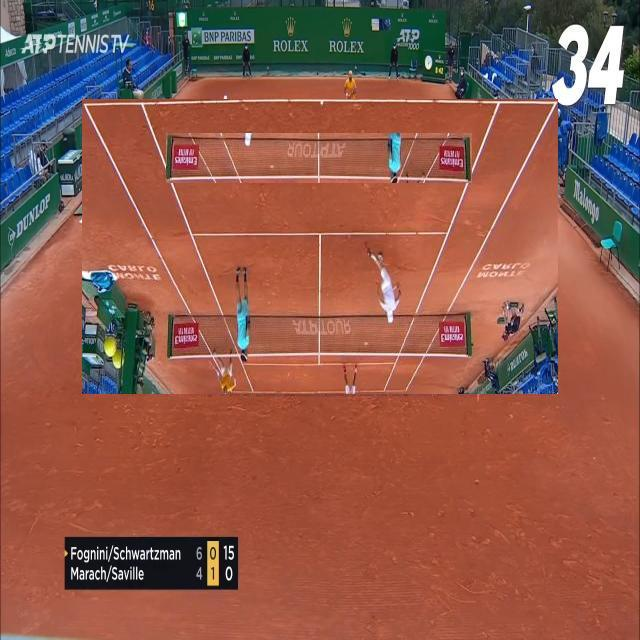court: (82, 100, 558, 396)
net: (166, 134, 472, 183)
player: (366, 170, 402, 248), (236, 132, 251, 228)
